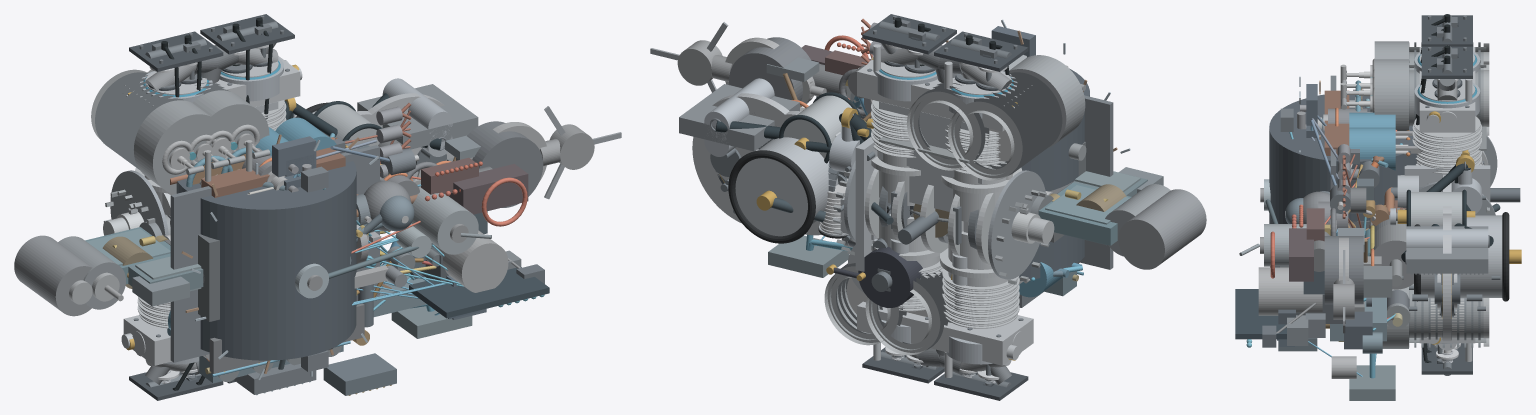
Rendered from ROTAX914.glb.
3 renders of one model, left to right at view 1: azimuth 30°, elevation 25°; view 2: azimuth 150°, elevation 25°; view 3: azimuth 270°, elevation 25°, orthographic. The views are drawn at different scales.
Parts seen in each view (by area): view 1: P29_ENGINE_CYCLE_ENVELOPE, P38_CUTAWAY_FRAME, P06_HEAD_1_BODY, P14_FUEL_TANK, P36_DASHBOARD_PANEL, P46_GEARBOX_HOUSING, P23_OIL_TANK, P24_FUEL_TANK, P06_HEAD_2_BODY, P37_DIAGNOSTIC_CONTROLLER, P09_geometry_49, P23_OIL_COOLER (+39 smaller); view 2: P08_geometry_68, P14_FUEL_TANK, P29_ENGINE_CYCLE_ENVELOPE, Assembly_CutawayCase_-105, P38_CUTAWAY_FRAME, P09_geometry_49, P46_GEARBOX_HOUSING, P06_HEAD_1_BODY, P11_geometry_41, P10_geometry_135, P02_geometry_0, P05_CYLINDER_1_BASE_FLANGE (+54 smaller); view 3: P29_ENGINE_CYCLE_ENVELOPE, P08_geometry_68, P09_geometry_49, P24_FUEL_TANK, P06_HEAD_2_BODY, P05_CYLINDER_4_BARREL, P46_GEARBOX_HOUSING, P36_DASHBOARD_PANEL, P09_geometry_41, P09_geometry_69, P43_RADIATOR, P33_COOLANT_JACKET_4 (+61 smaller).
Boxes of the visible parts, x1,y1,x2,y2 form: P29_ENGINE_CYCLE_ENVELOPE: [176, 161, 356, 360]; P38_CUTAWAY_FRAME: [170, 145, 379, 362]; P06_HEAD_1_BODY: [134, 100, 226, 194]; P14_FUEL_TANK: [14, 235, 91, 316]; P36_DASHBOARD_PANEL: [409, 266, 549, 318]; P46_GEARBOX_HOUSING: [456, 121, 543, 207]; P23_OIL_TANK: [411, 188, 478, 254]; P24_FUEL_TANK: [435, 230, 508, 292]; P06_HEAD_2_BODY: [192, 90, 269, 162]; P37_DIAGNOSTIC_CONTROLLER: [449, 164, 528, 214]; P09_geometry_49: [357, 84, 478, 149]; P23_OIL_COOLER: [323, 353, 396, 395]; P08_geometry_68: [735, 137, 838, 236]; P14_FUEL_TANK: [1118, 189, 1206, 269]; P29_ENGINE_CYCLE_ENVELOPE: [1019, 68, 1089, 280]; Assembly_CutawayCase_-105: [988, 170, 1045, 279]; P38_CUTAWAY_FRAME: [1079, 95, 1113, 269]; P09_geometry_49: [679, 84, 799, 151]; P46_GEARBOX_HOUSING: [729, 37, 812, 100]; P06_HEAD_1_BODY: [1009, 55, 1085, 147]; P11_geometry_41: [858, 247, 923, 307]; P10_geometry_135: [692, 93, 789, 223]; P02_geometry_0: [931, 315, 1033, 365]; P05_CYLINDER_1_BASE_FLANGE: [948, 101, 1022, 180]; P29_ENGINE_CYCLE_ENVELOPE: [1269, 94, 1416, 267]; P08_geometry_68: [1421, 215, 1502, 297]; P09_geometry_49: [1406, 226, 1488, 273]; P24_FUEL_TANK: [1258, 267, 1322, 315]; P06_HEAD_2_BODY: [1374, 59, 1408, 130]; P05_CYLINDER_4_BARREL: [1409, 284, 1486, 342]; P46_GEARBOX_HOUSING: [1324, 236, 1363, 304]; P36_DASHBOARD_PANEL: [1235, 289, 1286, 339]; P09_geometry_41: [1411, 192, 1462, 226]; P09_geometry_69: [1406, 228, 1488, 247]; P43_RADIATOR: [1349, 365, 1395, 400]; P33_COOLANT_JACKET_4: [1349, 127, 1395, 170].
Size of the model in its own units: 816 by 492 by 402.
